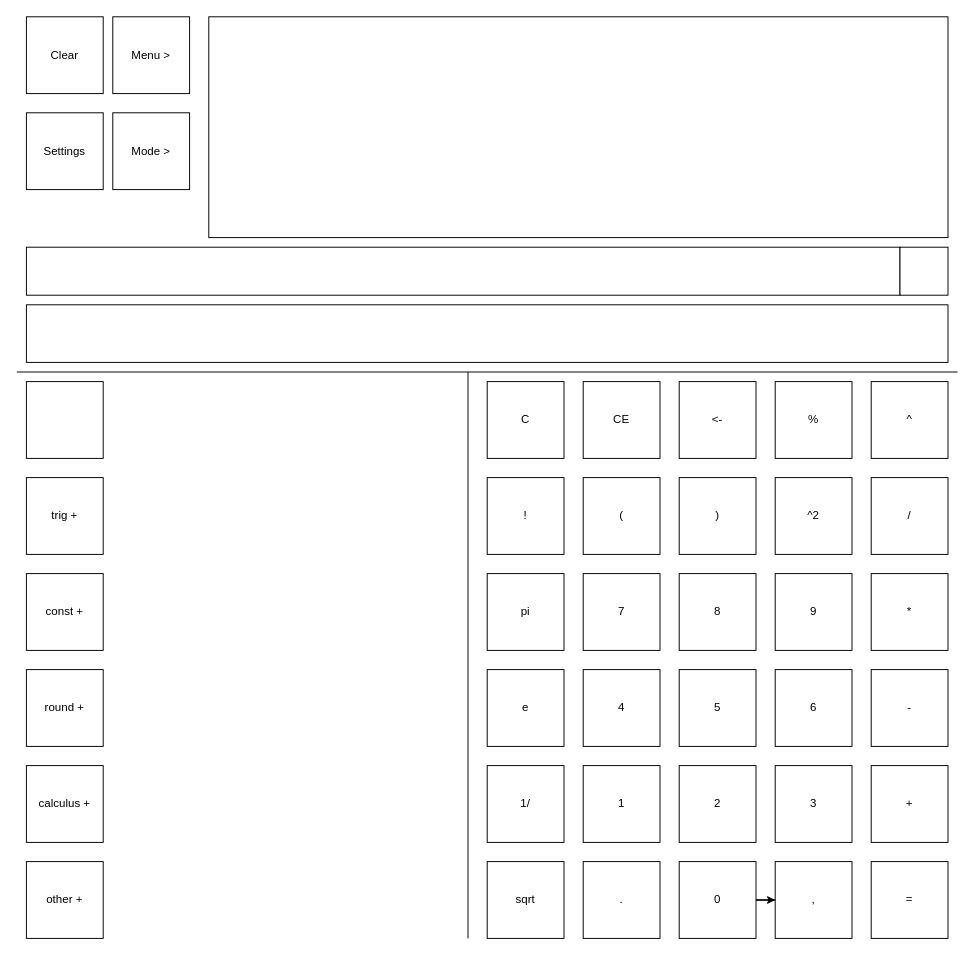
The diagram is 975 pixels wide and 956 high, and some of its shapes have lost their labels. The shapes that lost their labels are listed below. From the top down, each one's centre as x and y in pixels, then its label:
(923,270): info
(64,419): exp +
